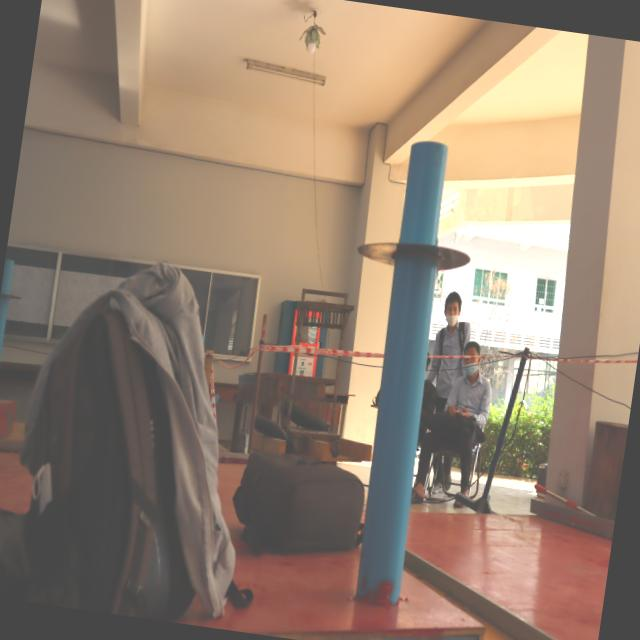pole: (344, 131, 484, 358)
